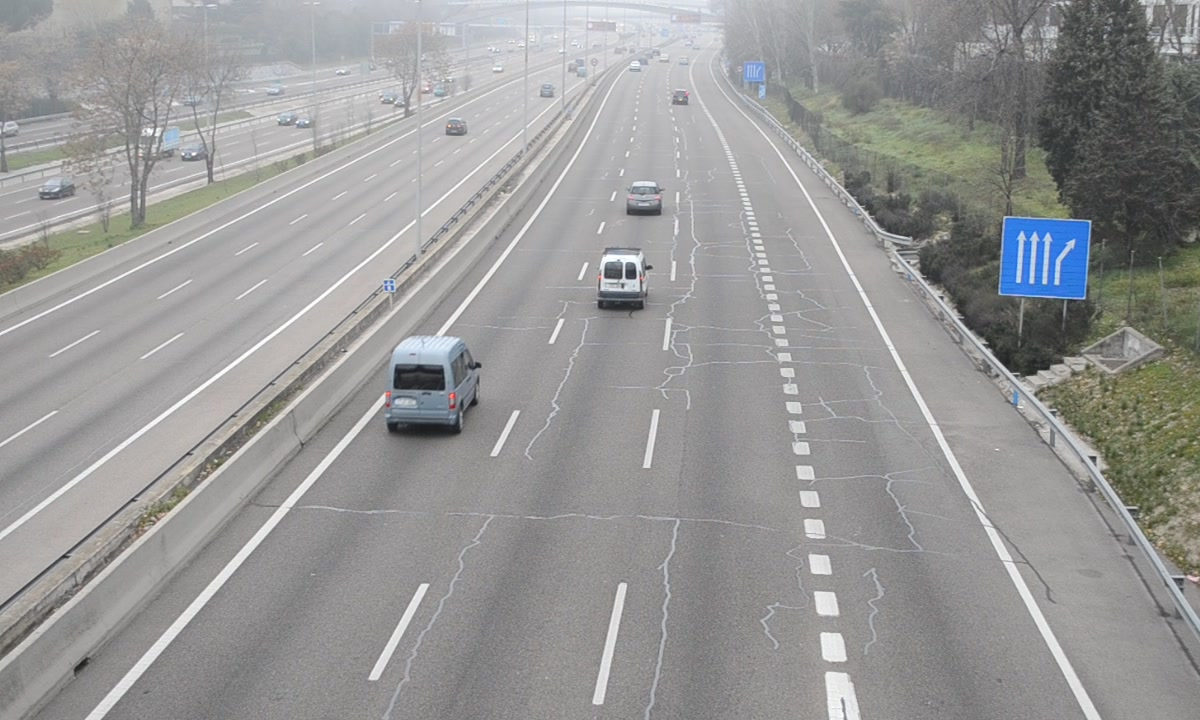car: (625, 181, 664, 217)
van: (384, 338, 479, 427), (597, 251, 648, 305)
